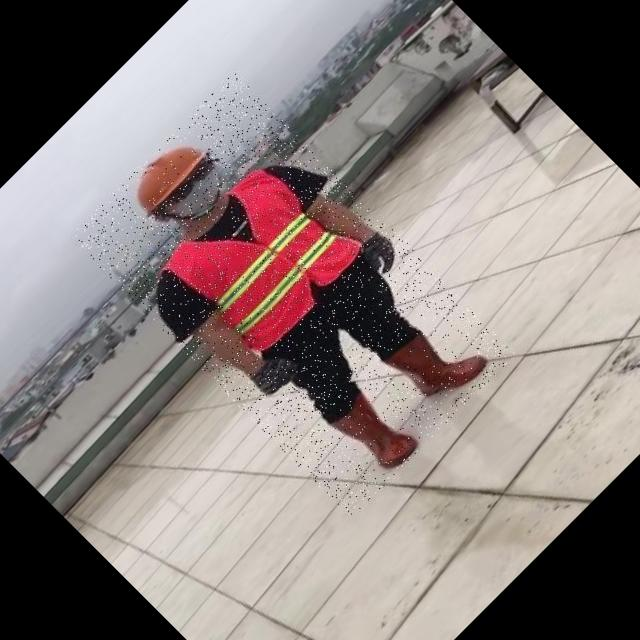hard_hat: (119, 124, 214, 218)
safety_vest: (160, 152, 366, 358)
vehicle: (69, 71, 516, 518)
work_boots: (381, 308, 488, 415), (321, 379, 424, 482)
